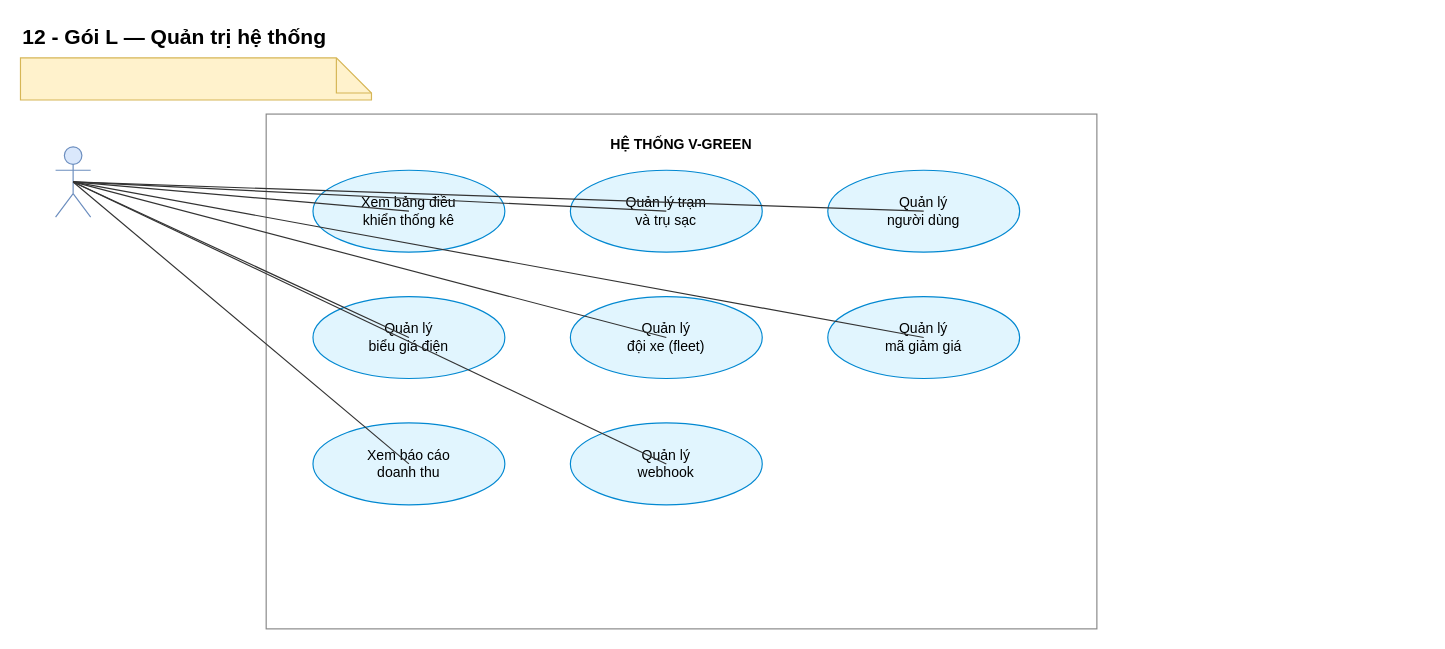
The diagram is 1445 pixels wide and 649 high, and some of its shapes have lost their labels. The centre of each missing label's shape, as x and y in pixels:
PlantUML use case source: PHAN_TICH_THIET_KE_HE_THONG.md:454: pixel 195 78
Quản trị viên: pixel 72 181
